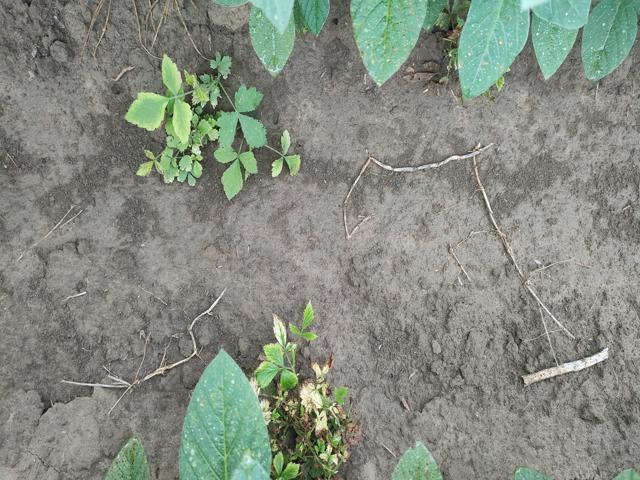bad weed: (122, 58, 315, 196), (252, 291, 366, 480)
